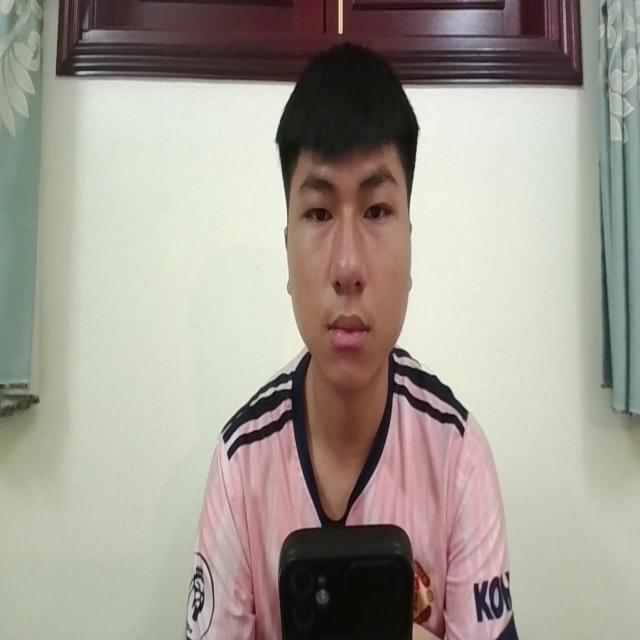phone: (278, 514, 415, 640)
student: (180, 32, 512, 640)
